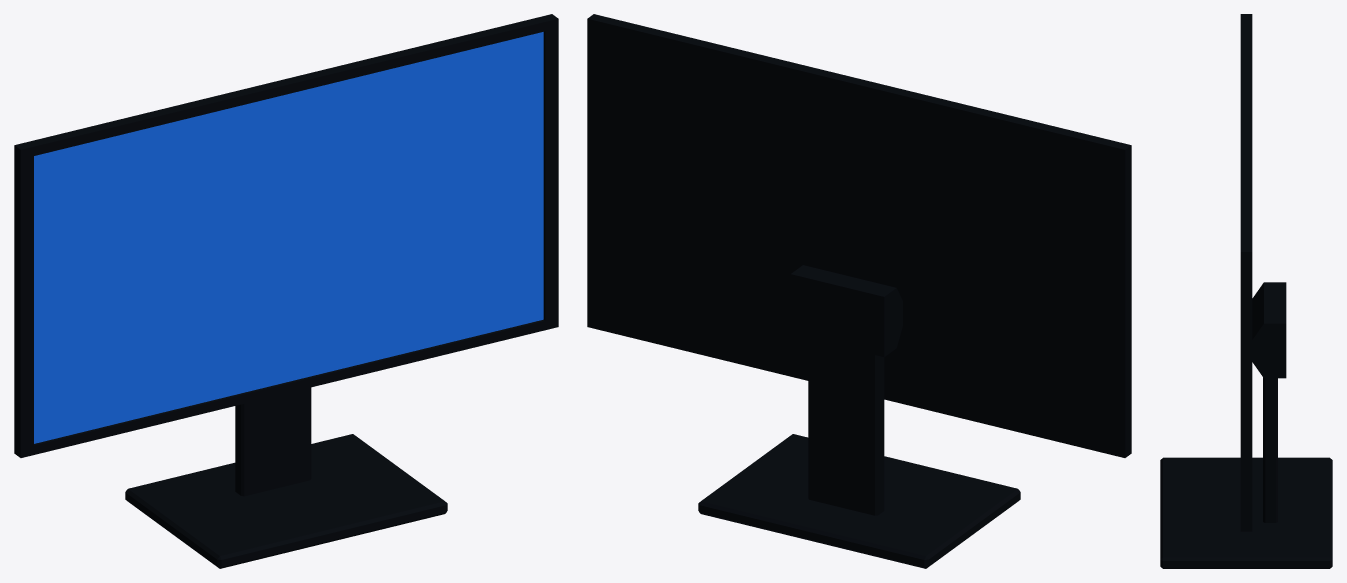
Rendered from monitor.glb.
3 renders of one model, left to right at view 1: azimuth 30°, elevation 25°; view 2: azimuth 150°, elevation 25°; view 3: azimuth 270°, elevation 25°, orthographic. The views are drawn at different scales.
Visible parts, largest first — view 1: Monitor1; view 2: Monitor1; view 3: Monitor1.
Boxes of the visible parts, x1,y1,x2,y2 form: Monitor1: [14, 14, 558, 568]; Monitor1: [587, 14, 1131, 568]; Monitor1: [1160, 14, 1332, 568].
Bounding box in the file's own units: 0.9094 × 0.6882 × 0.2785.
